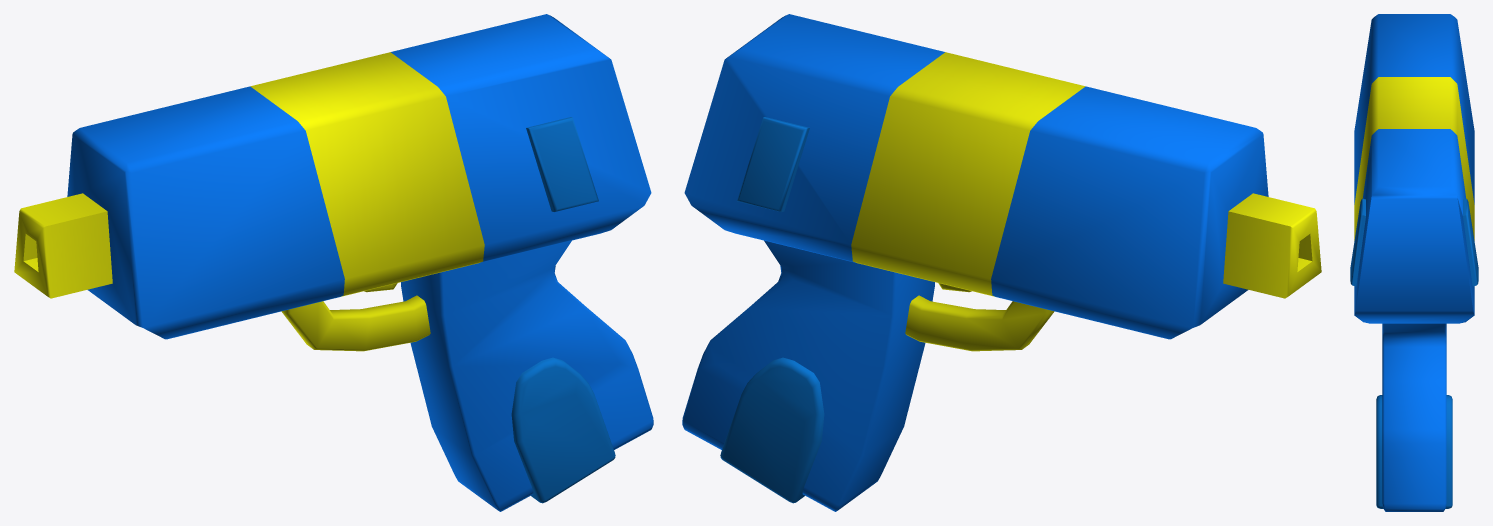
The model's file is gun.fbx.
3 renders of one model, left to right at view 1: azimuth 30°, elevation 25°; view 2: azimuth 150°, elevation 25°; view 3: azimuth 270°, elevation 25°, orthographic. The views are drawn at different scales.
Visible parts, largest first — view 1: Cube.003; view 2: Cube.003; view 3: Cube.003.
Part boxes in pixels (x1=…): Cube.003: x1=14, y1=14, x2=653, y2=511; Cube.003: x1=682, y1=14, x2=1321, y2=511; Cube.003: x1=1350, y1=14, x2=1478, y2=511.
Size of the model in its own units: 1.48 by 1.04 by 0.3585.
Materials: 1 (1 with a texture image).
